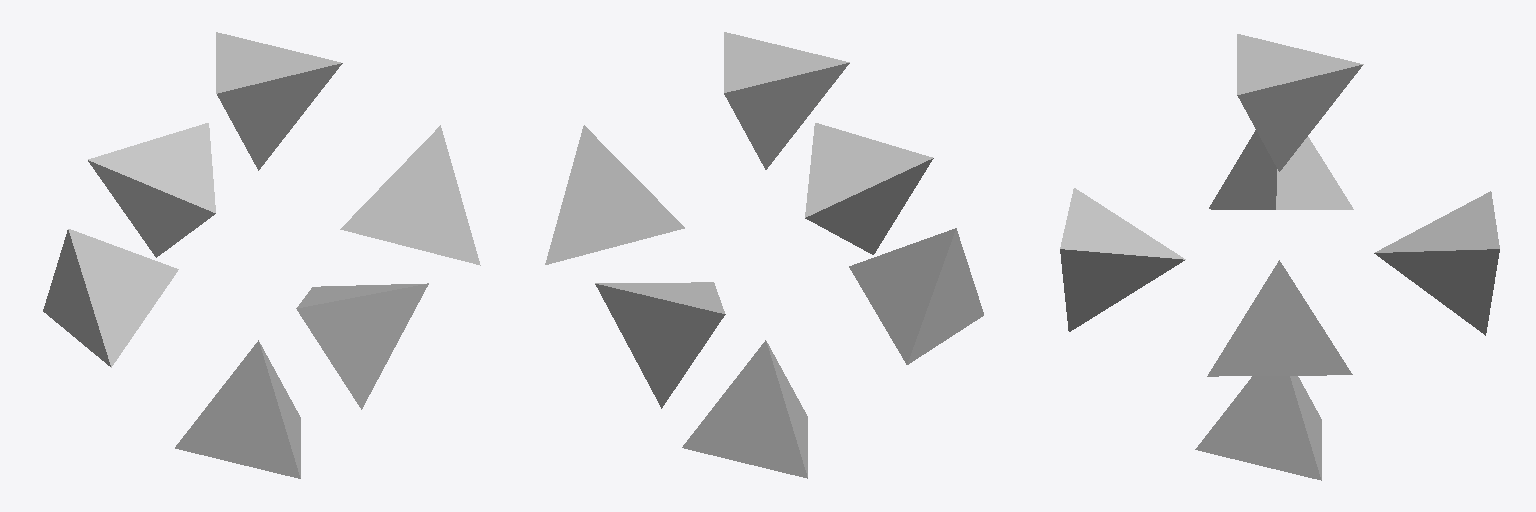
File: gasfield.obj
3 views of the same model, side by side, from view 1: azimuth 30°, elevation 25°; view 2: azimuth 150°, elevation 25°; view 3: azimuth 270°, elevation 25° (orthographic).
Visible parts, largest first — view 1: tetrahedron3, tetrahedron3_copy10, tetrahedron8, tetrahedron4, tetrahedron2, tetrahedron3_copy11; view 2: tetrahedron3, tetrahedron3_copy11, tetrahedron4, tetrahedron8, tetrahedron2, tetrahedron3_copy10; view 3: tetrahedron8, tetrahedron3_copy11, tetrahedron3_copy10, tetrahedron4, tetrahedron2, tetrahedron3.
Boxes of the visible parts, <box> form: tetrahedron3: <box>43,229,178,367</box>; tetrahedron3_copy10: <box>88,123,215,257</box>; tetrahedron8: <box>216,32,342,170</box>; tetrahedron4: <box>175,340,300,478</box>; tetrahedron2: <box>340,125,480,265</box>; tetrahedron3_copy11: <box>296,283,428,409</box>; tetrahedron3: <box>849,228,983,364</box>; tetrahedron3_copy11: <box>805,123,933,254</box>; tetrahedron4: <box>682,340,807,478</box>; tetrahedron8: <box>724,32,849,169</box>; tetrahedron2: <box>545,125,684,264</box>; tetrahedron3_copy10: <box>595,282,725,408</box>; tetrahedron8: <box>1237,34,1363,171</box>; tetrahedron3_copy11: <box>1060,188,1185,331</box>; tetrahedron3_copy10: <box>1374,191,1499,335</box>; tetrahedron4: <box>1195,376,1321,480</box>; tetrahedron2: <box>1207,260,1352,376</box>; tetrahedron3: <box>1209,130,1353,209</box>.
Size of the model in its own units: 5.95 by 5.82 by 6.02.